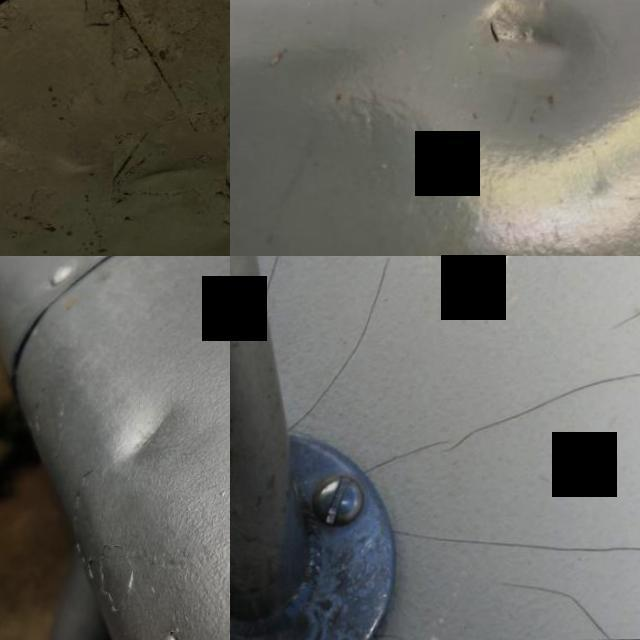Crack: (364, 369, 640, 472), (285, 256, 393, 440), (394, 526, 640, 560), (507, 581, 627, 640), (610, 307, 640, 335)
Dent: (446, 0, 621, 108), (88, 375, 215, 490), (115, 132, 230, 217), (0, 90, 33, 178)
